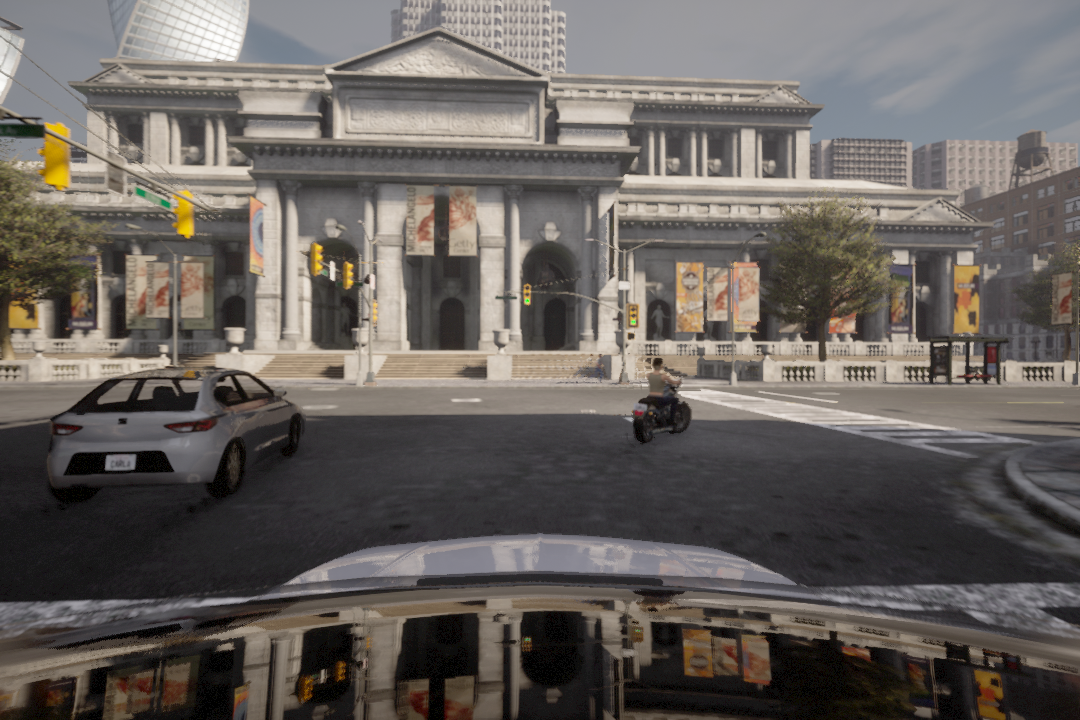TrafficLight: (627, 300, 641, 327), (522, 283, 534, 307)
walkside: (667, 386, 1037, 460)
